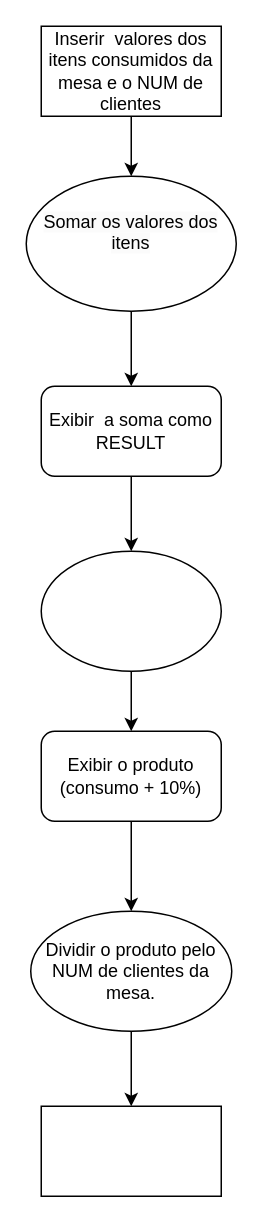
The diagram is 263 pixels wide and 1223 high, and some of its shapes have lost their labels. Here are the shapes that lost their labels. From the top down, the box of each, then its label:
(40, 550, 221, 671): Multiplicar RESULT por 0,10
(40, 1105, 221, 1196): Exibir o valor a ser pago por cada cliente.
